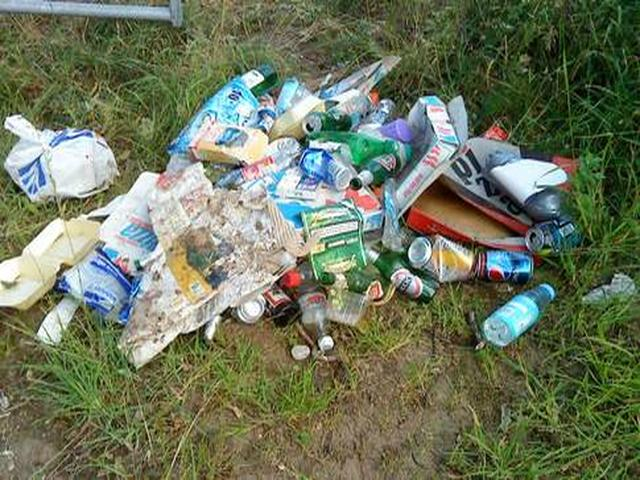garbage: (184, 141, 509, 294)
